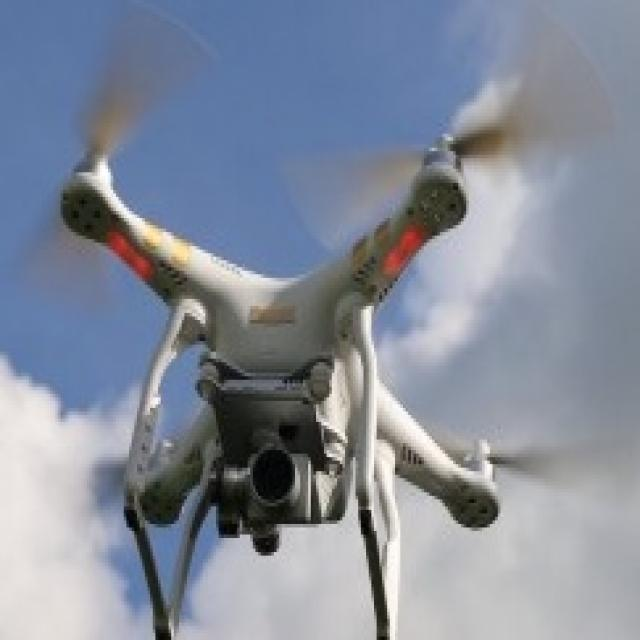drone: (40, 9, 611, 640)
